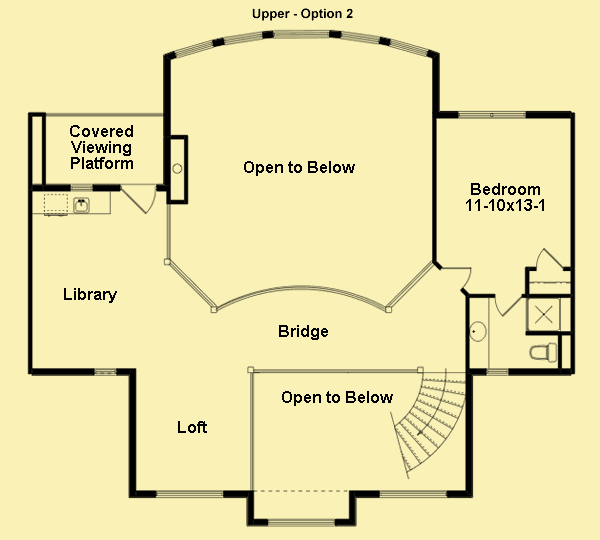door: (118, 181, 160, 218), (440, 262, 472, 292), (533, 244, 562, 276), (490, 292, 525, 317)
large sink: (522, 338, 562, 369)
small sink: (466, 299, 490, 370)
stairs: (392, 364, 473, 470)
windows: (170, 25, 428, 60), (264, 516, 340, 534), (150, 486, 228, 502), (448, 107, 529, 122), (373, 487, 452, 501), (85, 359, 123, 380), (65, 181, 94, 195)
